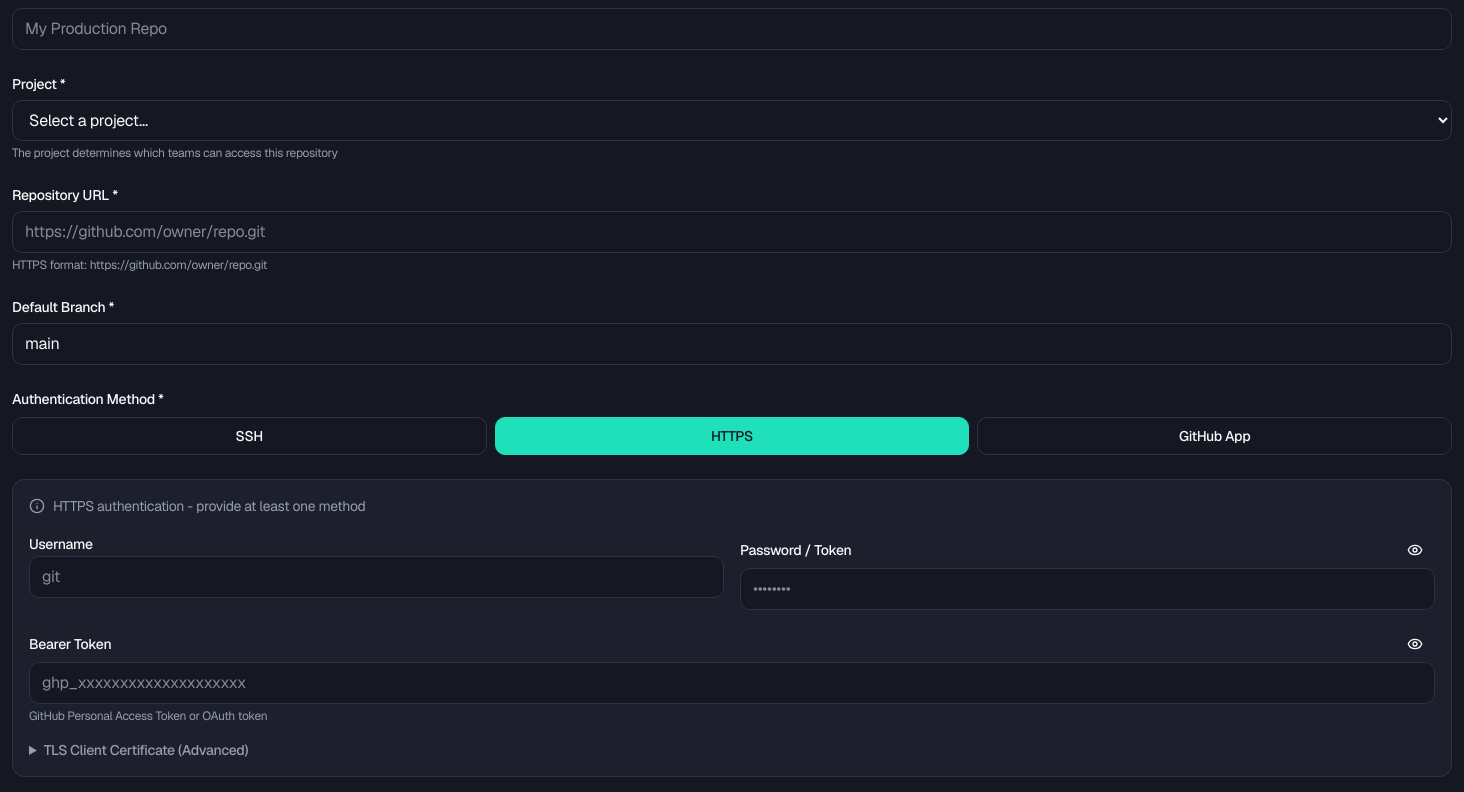
Test: RepositoryForm › form validation › shows validation error for missing project
Type "Test Repo" into the field labelled "Display Name *" at (732, 29), box [12,8,1452,50]
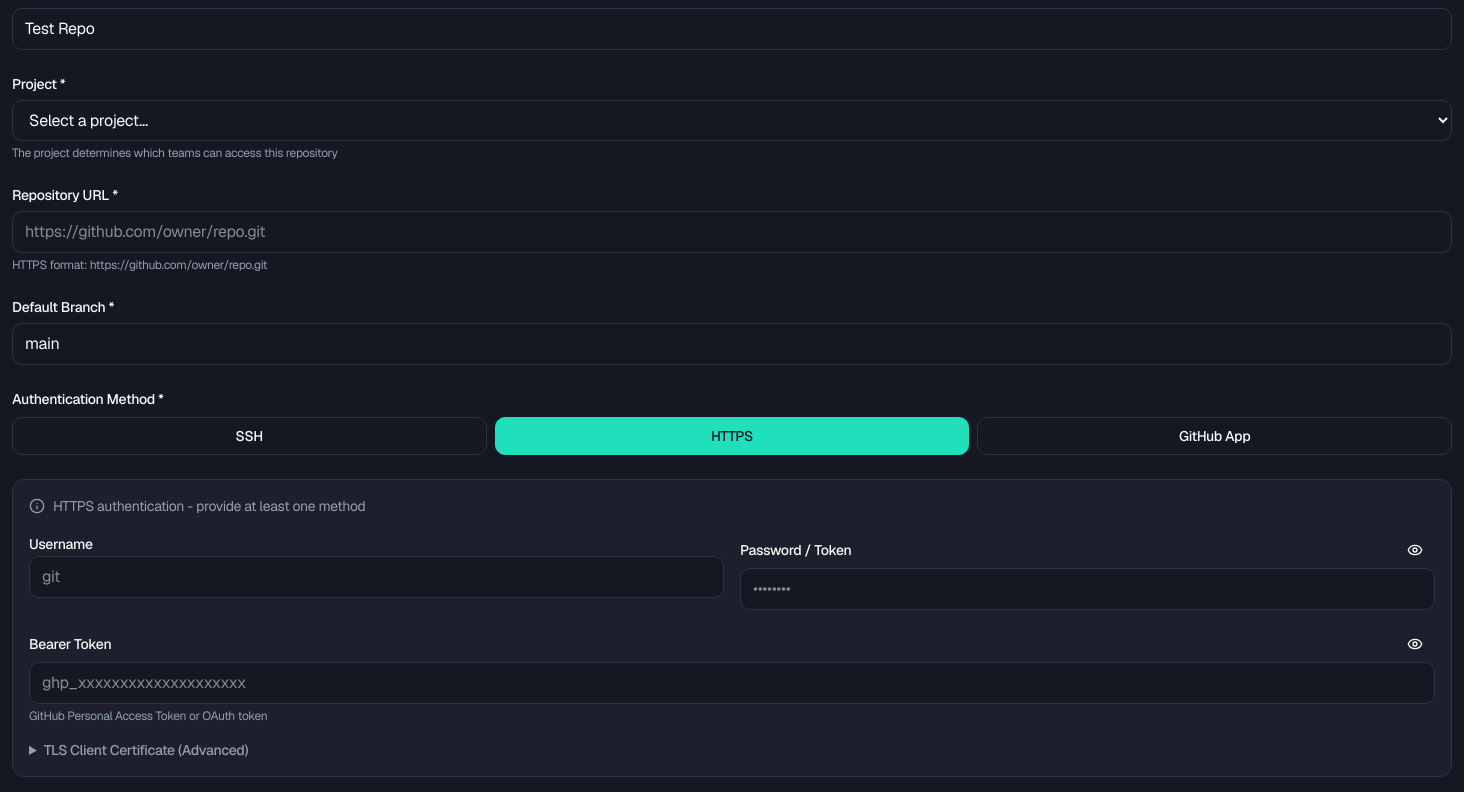
Type "https://github.com/test/test.git" into the field labelled "Repository URL *" at (732, 232), box [12,211,1452,253]
(page scrolled)
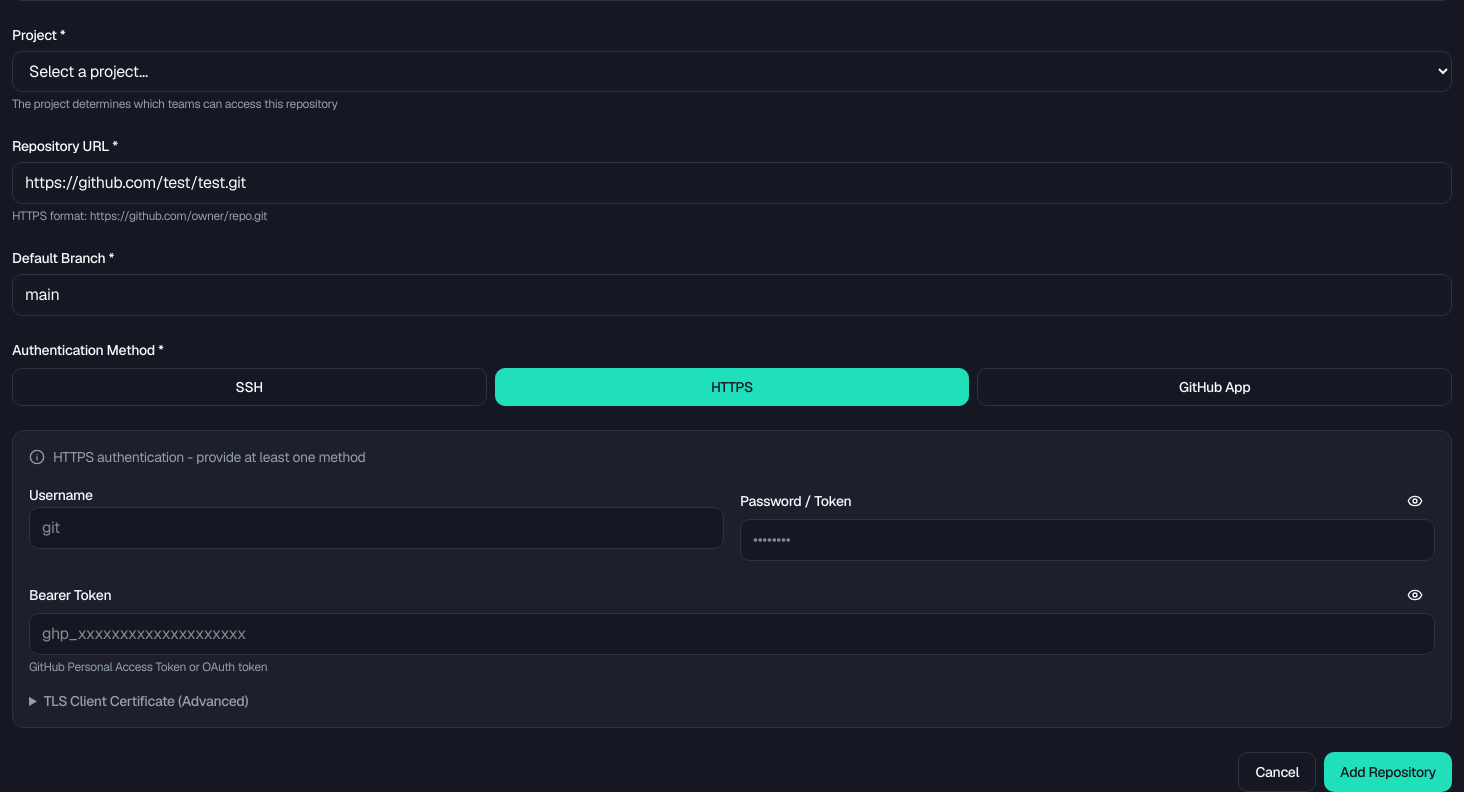
Click the button "Add Repository" at (1388, 772), box [1324,752,1452,791]
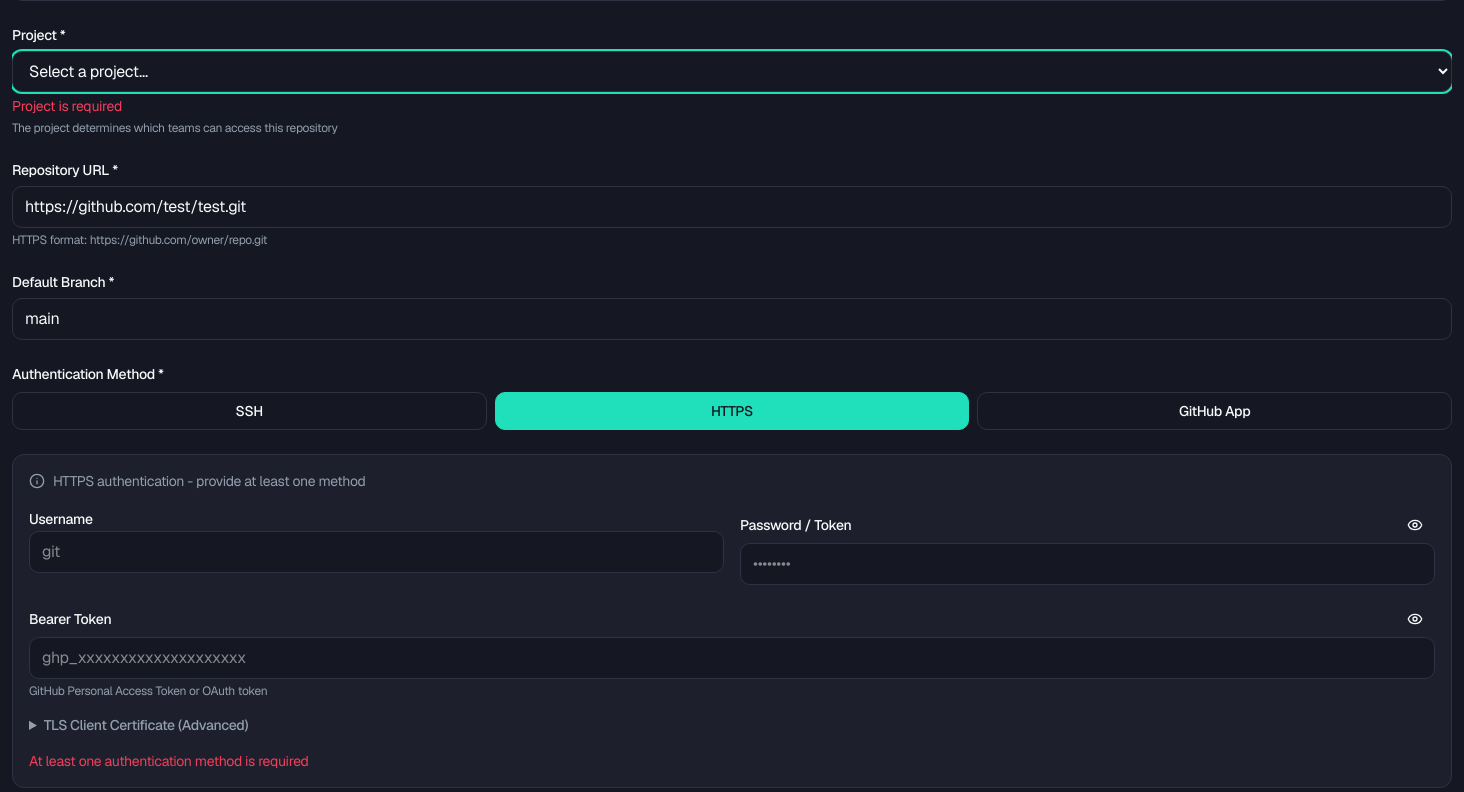
Check: the text "Project is required" is shown, box [12,97,122,115]
